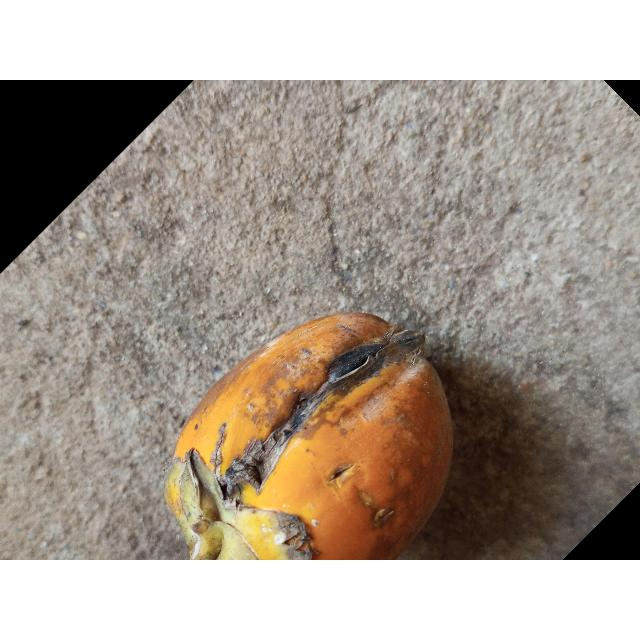damaged: (165, 313, 454, 560)
